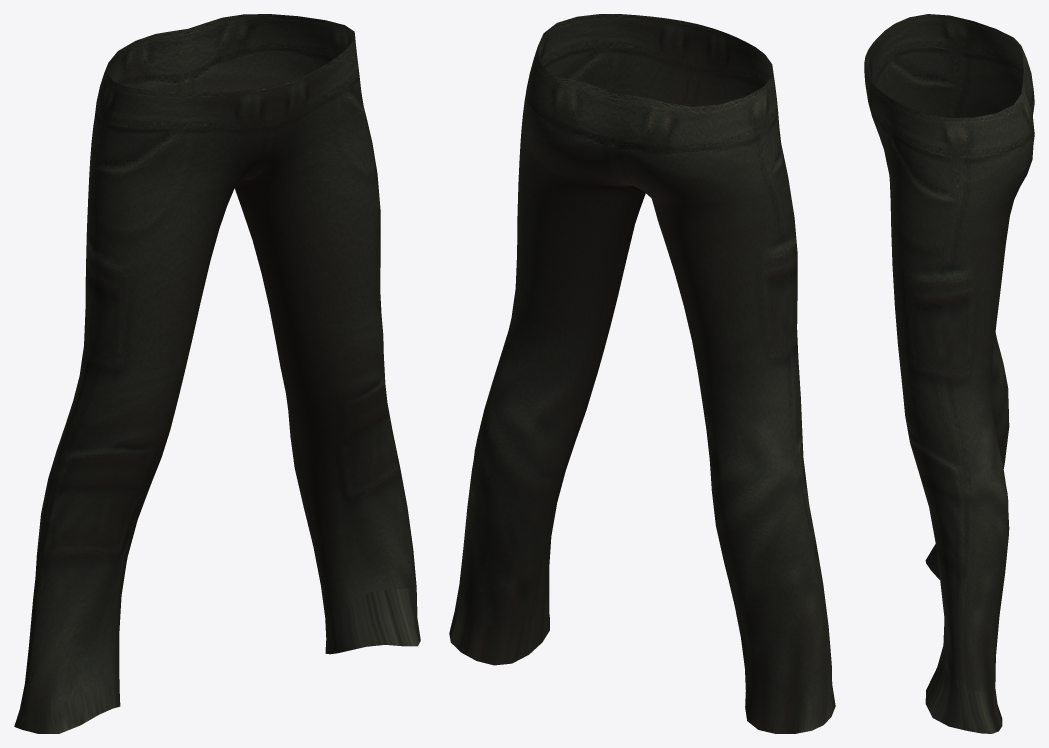
Rendered from pants.glb.
3 views of the same model, side by side, from view 1: azimuth 30°, elevation 25°; view 2: azimuth 150°, elevation 25°; view 3: azimuth 270°, elevation 25° (orthographic). The views are drawn at different scales.
Parts seen in each view (by area): view 1: pants; view 2: pants; view 3: pants.
Boxes of the visible parts, x1,y1,x2,y2 form: pants: (14, 14, 420, 733); pants: (449, 14, 835, 733); pants: (864, 14, 1034, 733).
Size of the model in its own units: 0.5834 by 0.9255 by 0.2407.
1 material, 1 textured.
